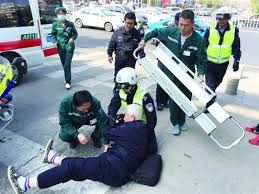fall: (3, 99, 167, 194)
